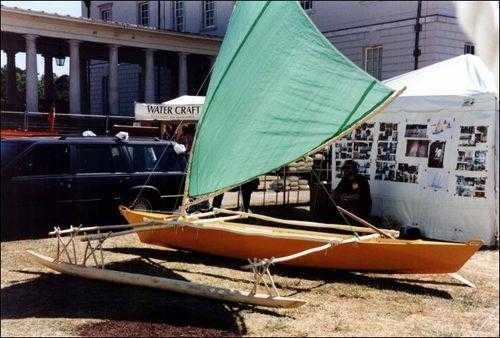kayak: (122, 2, 462, 266), (119, 198, 482, 274), (280, 235, 483, 275)
